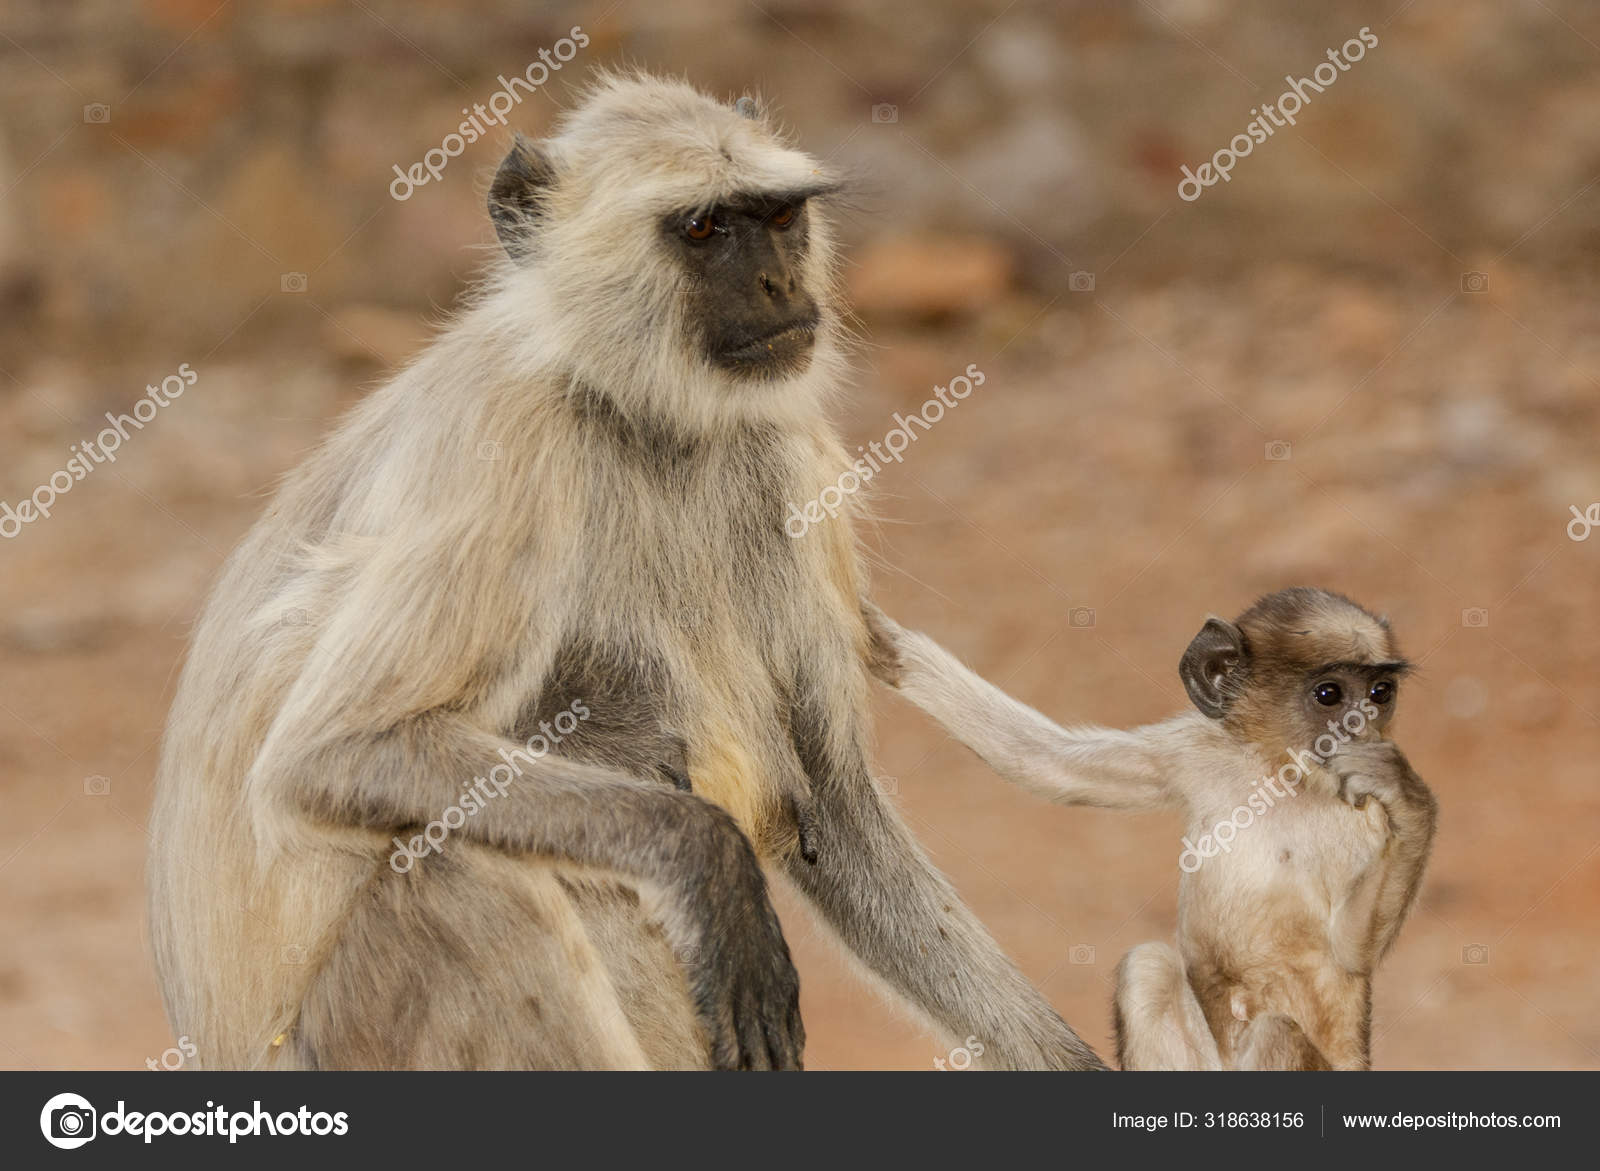monkey: (116, 65, 1109, 1087), (853, 538, 1530, 1078)
